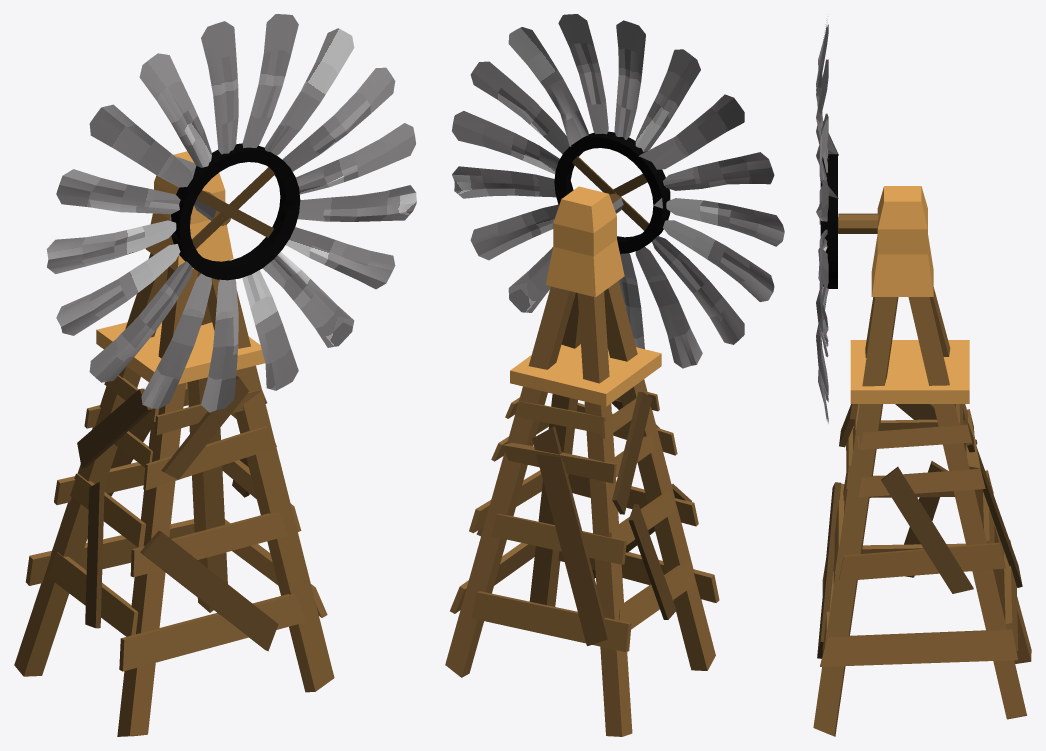
Rendered from mill.obj.
The picture shows the model from 3 angles, left to right: view 1: azimuth 30°, elevation 25°; view 2: azimuth 150°, elevation 25°; view 3: azimuth 270°, elevation 25°; orthographic projection. The views are drawn at different scales.
Parts seen in each view (by area): view 1: windmill; view 2: windmill; view 3: windmill.
Boxes of the visible parts, box(x1,y1,x2,y2) form: windmill: box(14, 14, 416, 736); windmill: box(445, 14, 784, 736); windmill: box(813, 20, 1031, 736).
Bounding box in the file's own units: 109 × 199 × 58.13.
Materials: 1 (1 with a texture image).
